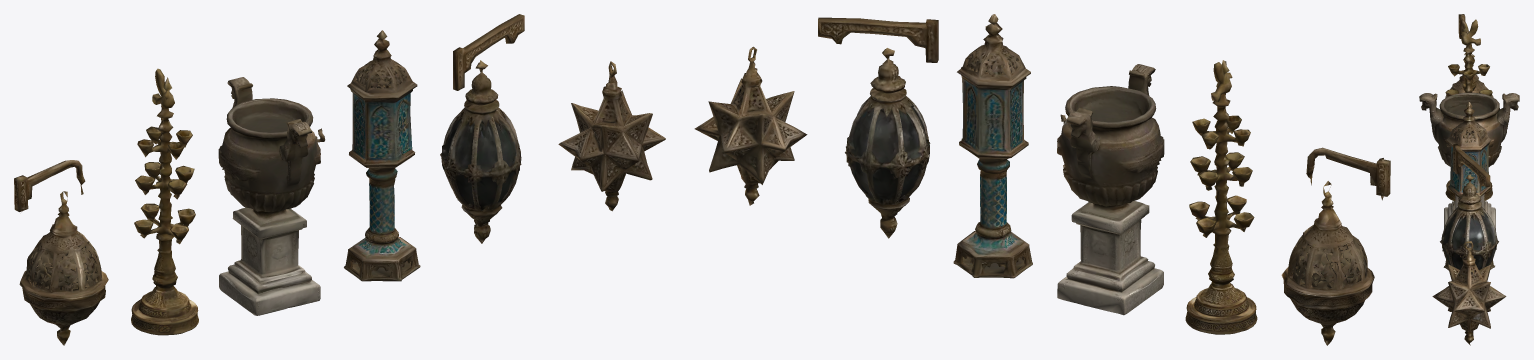
File: lamps_persian_shrine.glb
The picture shows the model from 3 angles, left to right: view 1: azimuth 30°, elevation 25°; view 2: azimuth 150°, elevation 25°; view 3: azimuth 270°, elevation 25°; orthographic projection. The views are drawn at different scales.
Visible parts, largest first — view 1: atashdan, lamp_tile_holder, lamp_mosque_hanging, lamp_golden_temple, lamp_dome_brass, lamp_star_bronze; view 2: atashdan, lamp_tile_holder, lamp_mosque_hanging, lamp_golden_temple, lamp_dome_brass, lamp_star_bronze; view 3: atashdan, lamp_mosque_hanging, lamp_star_bronze, lamp_tile_holder, lamp_golden_temple, lamp_dome_brass.
Boxes of the visible parts, x1,y1,x2,y2 form: atashdan: [218, 77, 325, 315]; lamp_tile_holder: [344, 30, 420, 281]; lamp_mosque_hanging: [440, 14, 524, 243]; lamp_golden_temple: [131, 68, 198, 335]; lamp_dome_brass: [14, 160, 108, 345]; lamp_star_bronze: [558, 61, 665, 211]; atashdan: [1057, 64, 1164, 315]; lamp_tile_holder: [953, 14, 1032, 278]; lamp_mosque_hanging: [818, 17, 938, 238]; lamp_golden_temple: [1185, 60, 1257, 334]; lamp_dome_brass: [1281, 147, 1390, 345]; lamp_star_bronze: [694, 46, 807, 205]; atashdan: [1419, 92, 1519, 230]; lamp_mosque_hanging: [1440, 143, 1498, 269]; lamp_star_bronze: [1432, 241, 1506, 345]; lamp_tile_holder: [1443, 101, 1494, 270]; lamp_golden_temple: [1445, 19, 1492, 201]; lamp_dome_brass: [1445, 14, 1493, 97].
Size of the model in its own units: 1.19 by 0.4413 by 0.2309.
1 material, 1 textured.
